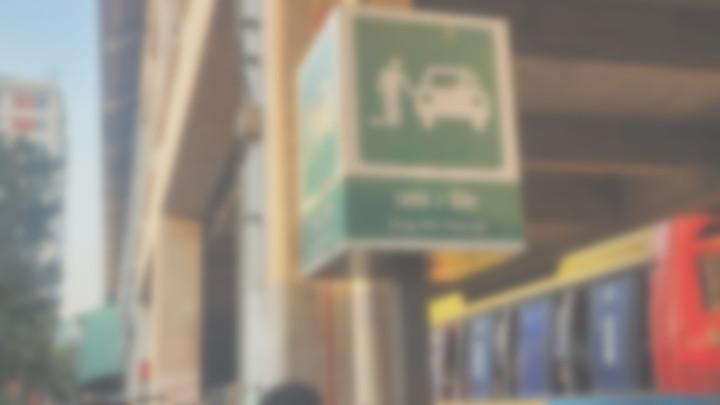Metro Dorp Up Pick up: (294, 2, 529, 284)
